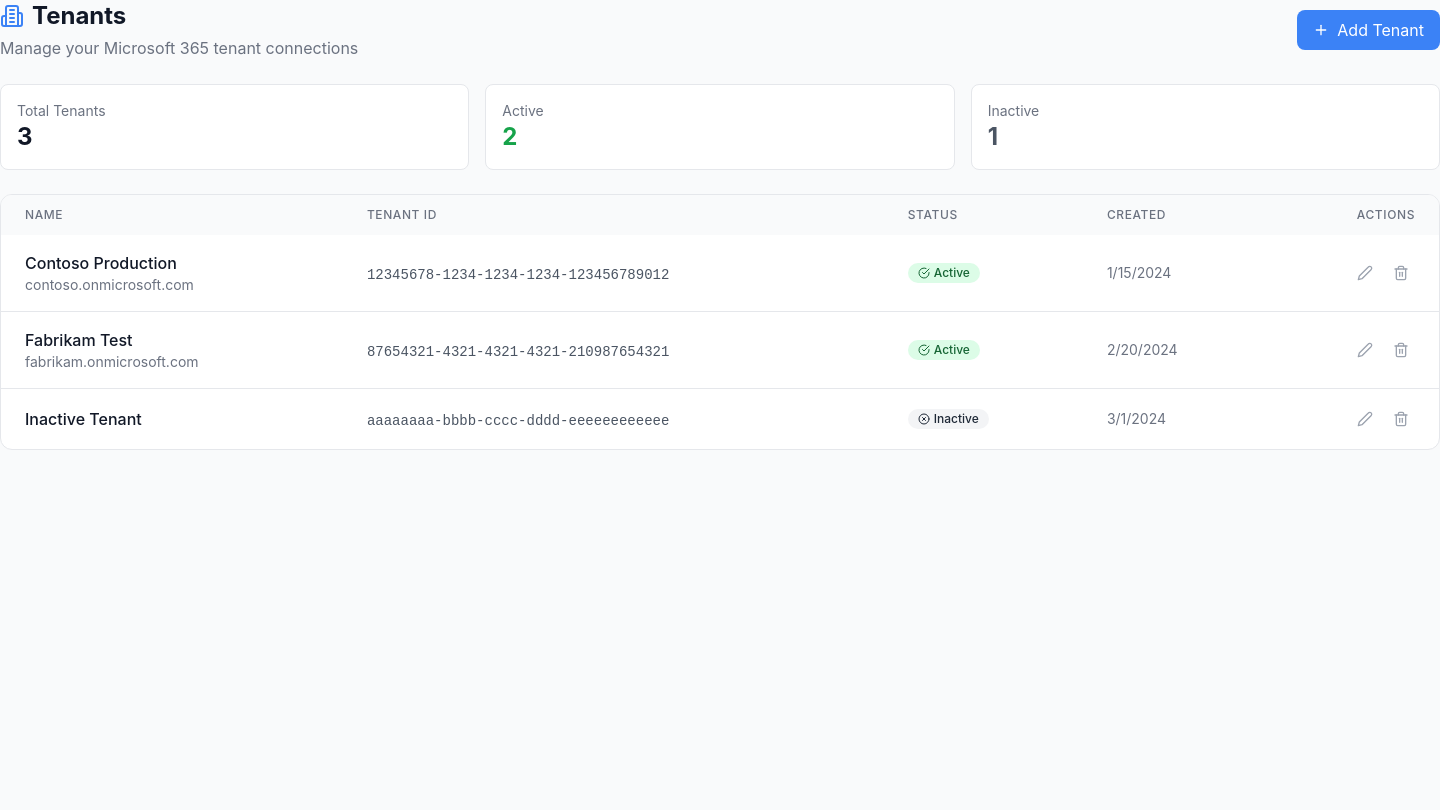
Tenants Page › closes modal when cancel button is clicked
Click the button "Add Tenant".
click(1369, 30)  # box [1297, 10, 1439, 50]
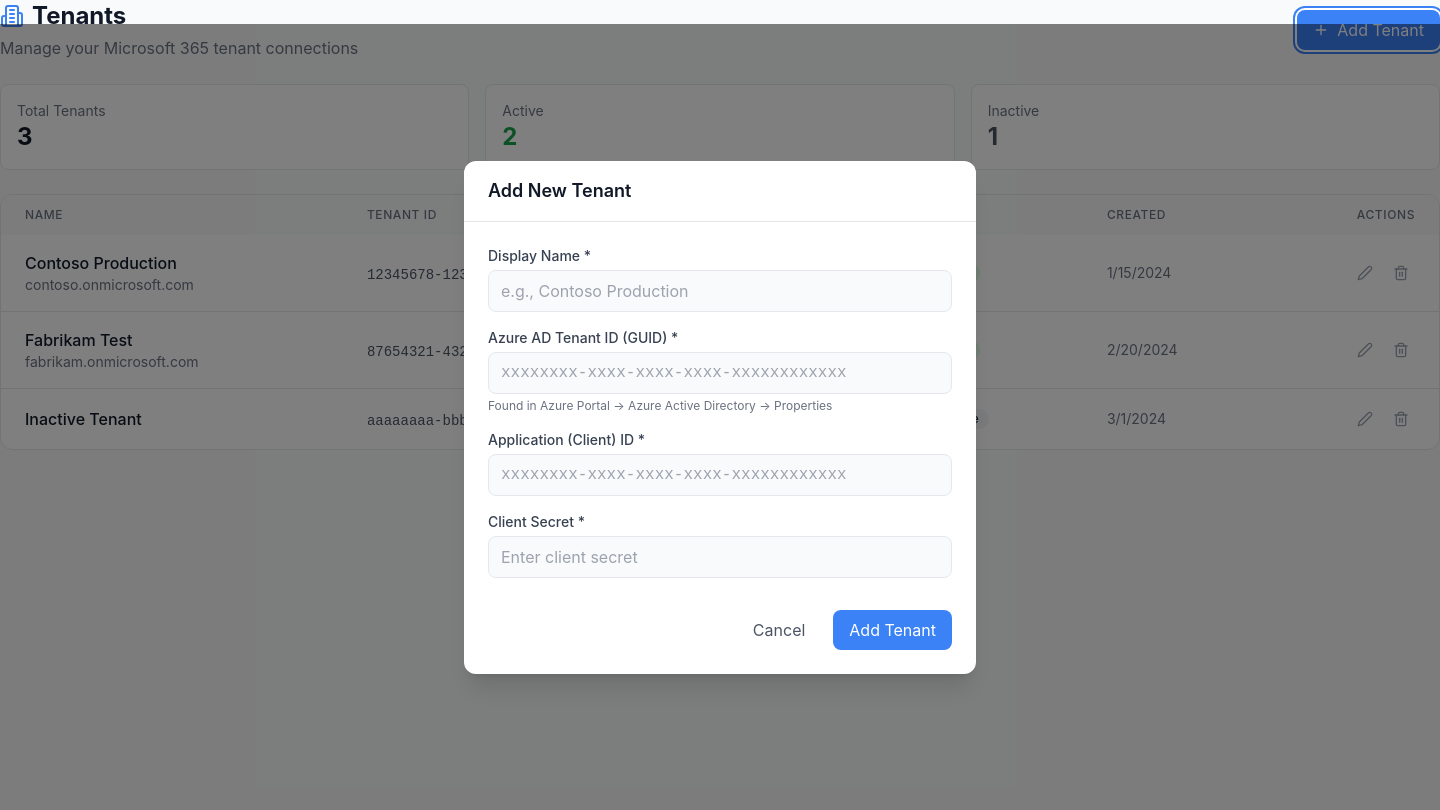
Click the button "Cancel".
click(779, 630)  # box [737, 610, 821, 650]
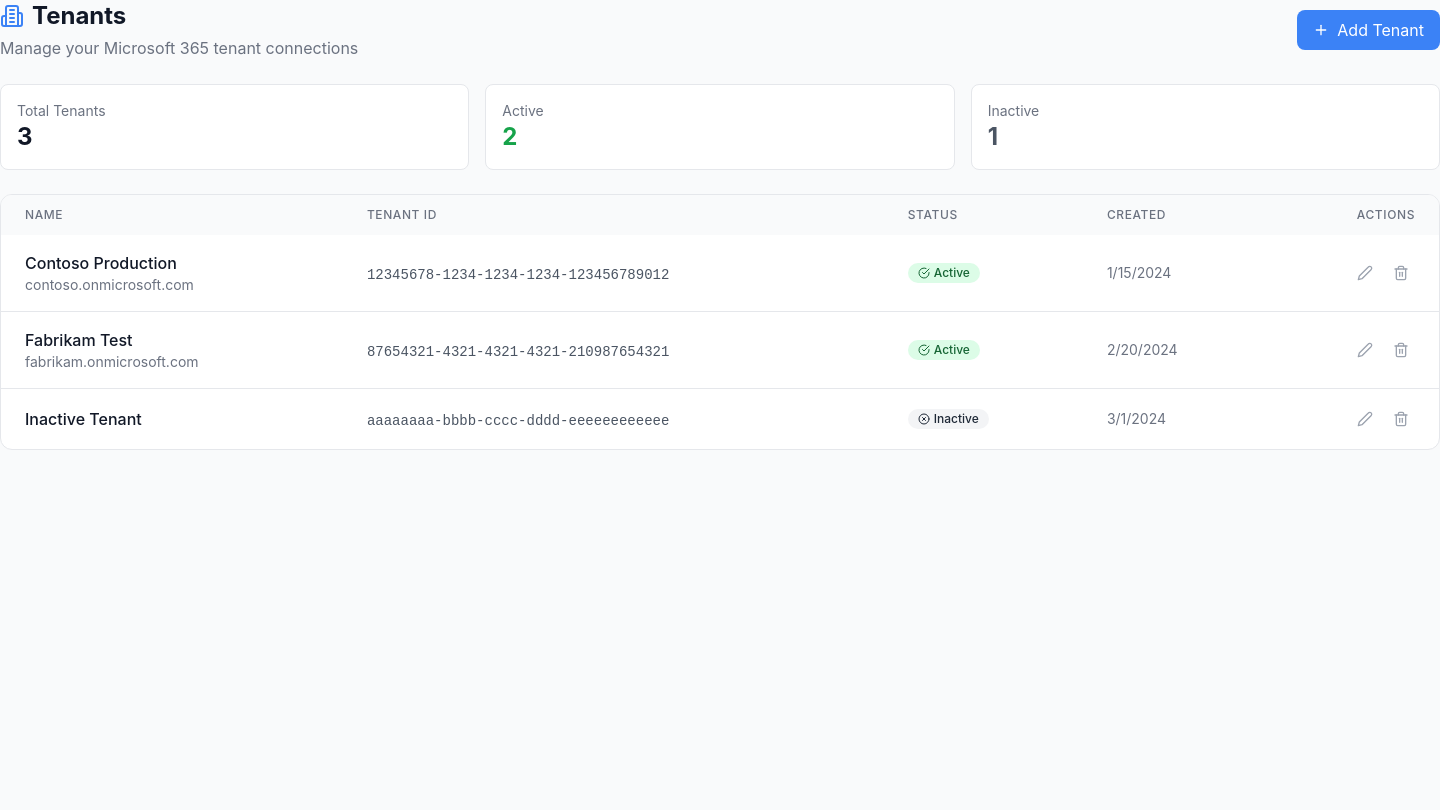
Expected: the heading "Add New Tenant" is gone
